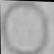no answer: (0, 0, 51, 54)
